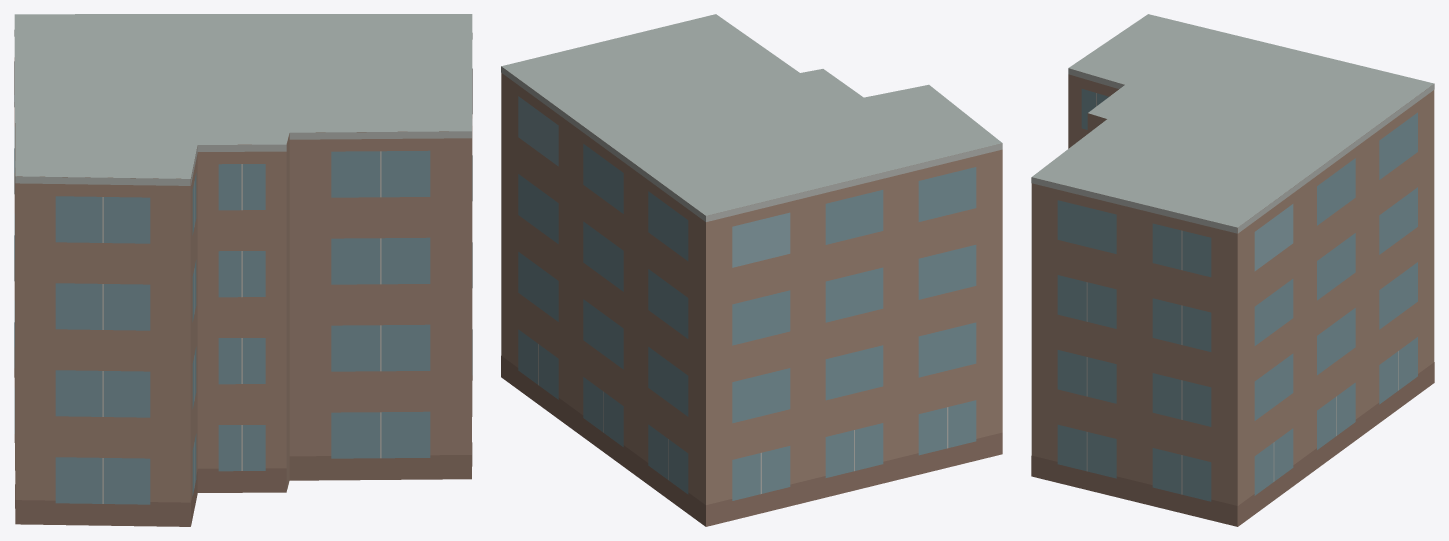
File: survey-upis-32997448.glb
3 renders of one model, left to right at view 1: azimuth 30°, elevation 25°; view 2: azimuth 150°, elevation 25°; view 3: azimuth 270°, elevation 25°, orthographic. The views are drawn at different scales.
Visible parts, largest first — view 1: survey-upis-32997448.tmp; view 2: survey-upis-32997448.tmp; view 3: survey-upis-32997448.tmp.
Part boxes in pixels (bbox=[...]): survey-upis-32997448.tmp: bbox=[14, 14, 472, 526]; survey-upis-32997448.tmp: bbox=[501, 14, 1002, 526]; survey-upis-32997448.tmp: bbox=[1031, 14, 1434, 526].
Bounding box in the file's own units: 18.38 × 12 × 14.65.
